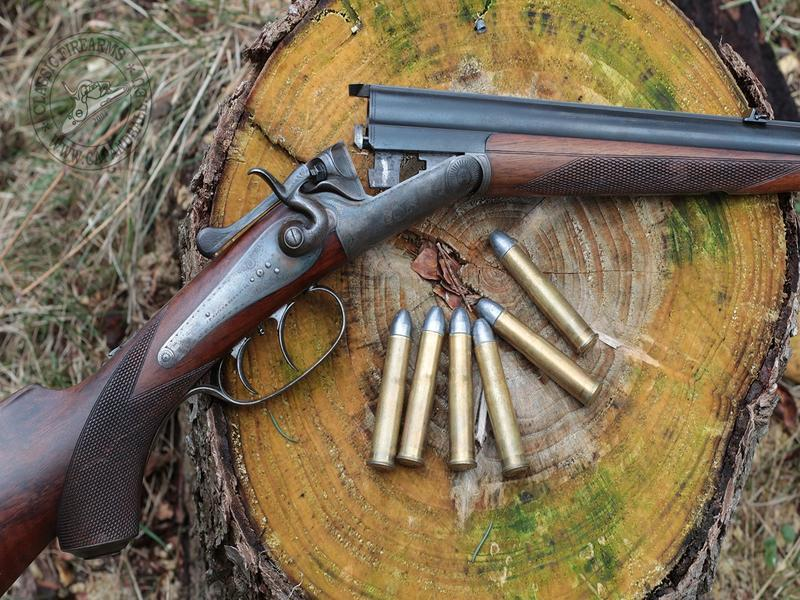GUN: (1, 82, 796, 599)
